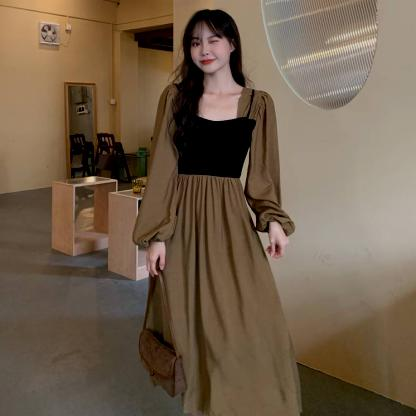dress: (131, 79, 314, 416)
